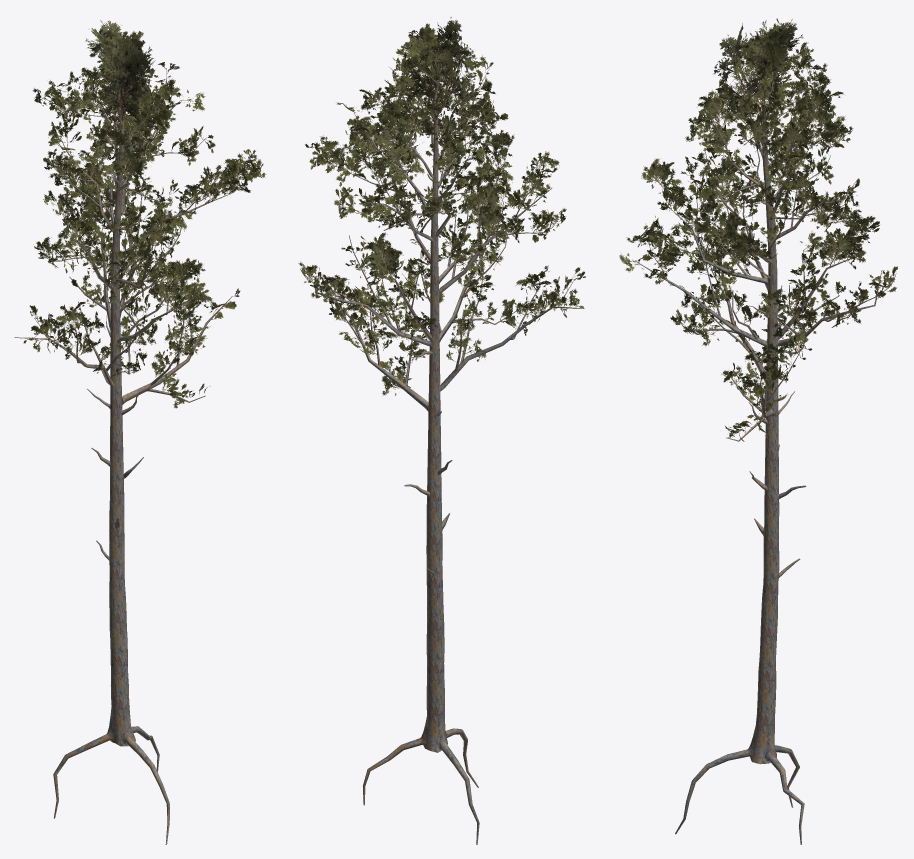
File: SM_Pine01.fbx
The picture shows the model from 3 angles, left to right: view 1: azimuth 30°, elevation 25°; view 2: azimuth 150°, elevation 25°; view 3: azimuth 270°, elevation 25°; orthographic projection. The views are drawn at different scales.
Visible parts, largest first — view 1: Pine01_LOD0; view 2: Pine01_LOD0; view 3: Pine01_LOD0.
Boxes of the visible parts, bbox=[...] form: Pine01_LOD0: bbox=[14, 20, 266, 844]; Pine01_LOD0: bbox=[298, 17, 585, 844]; Pine01_LOD0: bbox=[619, 18, 897, 844].
Size of the model in its own units: 452 by 494 by 1430.
